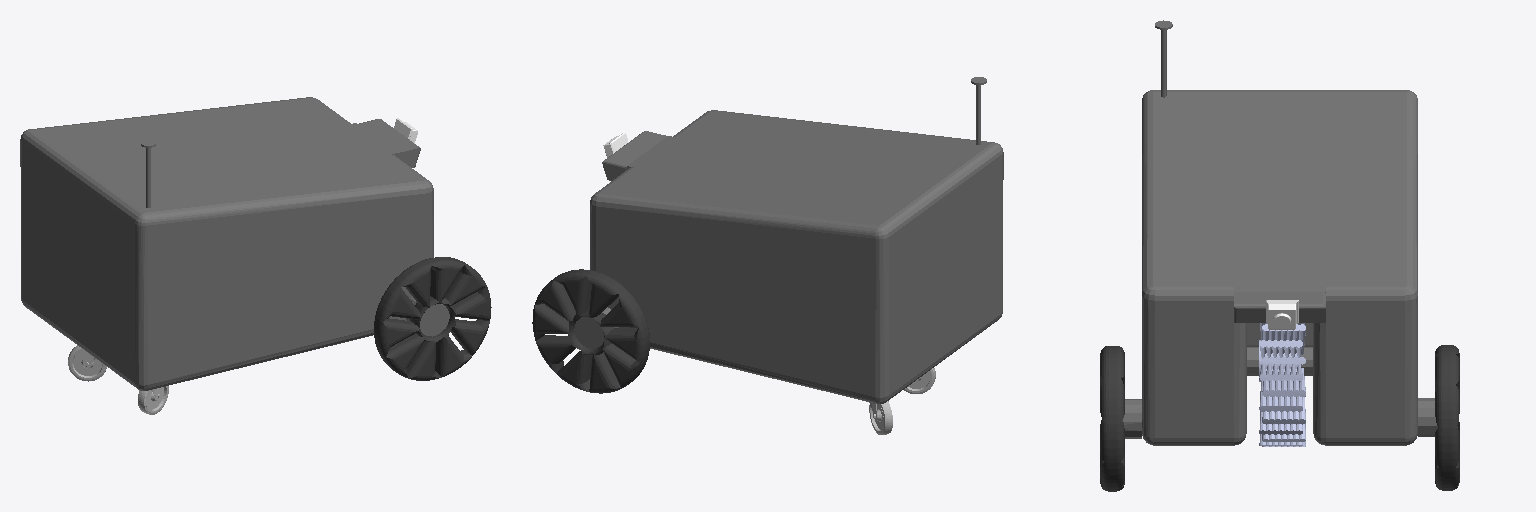
robot.urdf — diseno_final_robot:
<?xml version="1.0" encoding="utf-8"?>
<robot name="diseno_final_robot">
  <link name="base_link">
    <inertial>
      <origin
        xyz="-0.109137752535927 0.0419806407410149 -0.0760341853308248"
        rpy="0 0 0" />
      <mass
        value="14.5723926451771" />
      <inertia
        ixx="0.124657965775517"
        ixy="0.0059609663898011"
        ixz="-1.79849267536098E-05"
        iyy="0.23187346426943"
        iyz="-1.79358330442558E-05"
        izz="0.189759000135656" />
    </inertial>
    <visual>
      <origin
        xyz="0 0 0"
        rpy="0 0 0" />
      <geometry>
        <mesh
          filename="package://diseno_final_robot/meshes/base_link.STL" />
      </geometry>
      <material
        name="">
        <color
          rgba="0.498039215686275 0.498039215686275 0.498039215686275 1" />
      </material>
    </visual>
    <collision>
      <origin
        xyz="0 0 0"
        rpy="0 0 0" />
      <geometry>
        <mesh
          filename="package://diseno_final_robot/meshes/base_link.STL" />
      </geometry>
    </collision>
  </link>
  <link name="llanta1">
    <inertial>
      <origin
        xyz="-1.3359E-10 0.012744 -1.2645E-10"
        rpy="0 0 0" />
      <mass
        value="0.23577" />
      <inertia
        ixx="0.00029454"
        ixy="-4.6374E-13"
        ixz="-5.3956E-11"
        iyy="0.00057368"
        iyz="-3.9038E-13"
        izz="0.00029454" />
    </inertial>
    <visual>
      <origin
        xyz="0 0 0"
        rpy="0 0 0" />
      <geometry>
        <mesh
          filename="package://diseno_final_robot/meshes/llanta1.STL" />
      </geometry>
      <material
        name="">
        <color
          rgba="0.29804 0.29804 0.29804 1" />
      </material>
    </visual>
    <collision>
      <origin
        xyz="0 0 0"
        rpy="0 0 0" />
      <geometry>
        <mesh
          filename="package://diseno_final_robot/meshes/llanta1.STL" />
      </geometry>
    </collision>
  </link>
  <joint name="llanta.1"
    type="continuous">
    <origin
      xyz="0.058802 -0.062563 -0.029378"
      rpy="0 -0.037671 3.1416" />
    <parent
      link="base_link" />
    <child
      link="llanta1" />
    <axis
      xyz="0 1 0" />
    <limit
      lower="0"
      upper="0"
      effort="0"
      velocity="0" />
  </joint>
  <link name="llanta2">
    <inertial>
      <origin
        xyz="-1.3359E-10 0.012744 -1.2645E-10"
        rpy="0 0 0" />
      <mass
        value="0.23577" />
      <inertia
        ixx="0.00029454"
        ixy="-4.6374E-13"
        ixz="-5.3956E-11"
        iyy="0.00057368"
        iyz="-3.9038E-13"
        izz="0.00029454" />
    </inertial>
    <visual>
      <origin
        xyz="0 0 0"
        rpy="0 0 0" />
      <geometry>
        <mesh
          filename="package://diseno_final_robot/meshes/llanta2.STL" />
      </geometry>
      <material
        name="">
        <color
          rgba="0.29804 0.29804 0.29804 1" />
      </material>
    </visual>
    <collision>
      <origin
        xyz="0 0 0"
        rpy="0 0 0" />
      <geometry>
        <mesh
          filename="package://diseno_final_robot/meshes/llanta2.STL" />
      </geometry>
    </collision>
  </link>
  <joint name="llanta.2"
    type="continuous">
    <origin
      xyz="0.058573 0.21463 -0.028692"
      rpy="-3.1416 -1.1524 3.1416" />
    <parent
      link="base_link" />
    <child
      link="llanta2" />
    <axis
      xyz="0 1 0" />
    <limit
      lower="0"
      upper="0"
      effort="0"
      velocity="0" />
  </joint>
  <link name="cepillo">
    <inertial>
      <origin
        xyz="0.021722 -6.7968E-08 8.588E-08"
        rpy="0 0 0" />
      <mass
        value="0.28891" />
      <inertia
        ixx="0.00089633"
        ixy="1.5922E-10"
        ixz="1.6885E-10"
        iyy="0.00048375"
        iyz="2.7106E-10"
        izz="0.00048375" />
    </inertial>
    <visual>
      <origin
        xyz="0 0 0"
        rpy="0 0 0" />
      <geometry>
        <mesh
          filename="package://diseno_final_robot/meshes/cepillo.STL" />
      </geometry>
      <material
        name="">
        <color
          rgba="0.79216 0.81961 0.93333 1" />
      </material>
    </visual>
    <collision>
      <origin
        xyz="0 0 0"
        rpy="0 0 0" />
      <geometry>
        <mesh
          filename="package://diseno_final_robot/meshes/cepillo.STL" />
      </geometry>
    </collision>
  </link>  <joint name="cepillo.1"
    type="continuous">
    <origin
      xyz="-0.020064 0.056633 -0.0088271"
      rpy="2.209 0 1.5708" />
    <parent
      link="base_link" />
    <child
      link="cepillo" />
    <axis
      xyz="1 0 0" />
    <limit
      lower="0"
      upper="0"
      effort="0"
      velocity="0" />
  </joint>
  <link name="llanta_caster1">
    <inertial>
      <origin
        xyz="-0.010664 -0.020985 9.7145E-17"
        rpy="0 0 0" />
      <mass
        value="0.008626" />
      <inertia
        ixx="1.0412E-06"
        ixy="-1.1167E-22"
        ixz="7.9409E-23"
        iyy="1.0412E-06"
        iyz="1.3938E-22"
        izz="1.9805E-06" />
    </inertial>
    <visual>
      <origin
        xyz="0 0 0"
        rpy="0 0 0" />
      <geometry>
        <mesh
          filename="package://diseno_final_robot/meshes/llanta_caster1.STL" />
      </geometry>
      <material
        name="">
        <color
          rgba="0.75294 0.75294 0.75294 1" />
      </material>
    </visual>
    <collision>
      <origin
        xyz="0 0 0"
        rpy="0 0 0" />
      <geometry>
        <mesh
          filename="package://diseno_final_robot/meshes/llanta_caster1.STL" />
      </geometry>
    </collision>
  </link>
  <joint name="llanta_caster.1" 
      type="fixed">
   		<parent link="base_caster1"/>
   		<child link="llanta_caster1"/>
   		<origin xyz="0 -0.018 0" rpy="0 0 0" />
   		<axis xyz="0 0 0" />
 	</joint>
  <link name="llanta_caster2">
    <inertial>
      <origin
        xyz="-0.0106648419028103 -0.0209609354184714 -1.66533453693773E-16"
        rpy="0 0 0" />
      <mass
        value="0.00862604840260992" />
      <inertia
        ixx="1.04119936971148E-06"
        ixy="3.97046694025453E-23"
        ixz="-2.11758236813575E-22"
        iyy="1.04119936971147E-06"
        iyz="-1.33589668927314E-21"
        izz="1.98048265250342E-06" />
    </inertial>
    <visual>
      <origin
        xyz="0 0 0"
        rpy="0 0 0" />
      <geometry>
        <mesh
          filename="package://diseno_final_robot/meshes/llanta_caster2.STL" />
      </geometry>
      <material
        name="">
        <color
          rgba="0.752941176470588 0.752941176470588 0.752941176470588 1" />
      </material>
    </visual>
    <collision>
      <origin
        xyz="0 0 0"
        rpy="0 0 0" />
      <geometry>
        <mesh
          filename="package://diseno_final_robot/meshes/llanta_caster2.STL" />
      </geometry>
    </collision>
  </link>
  <joint name="llanta_caster.2" 
      type="fixed">
   		<parent link="base_caster2"/>
   		<child link="llanta_caster2"/>
   		<origin xyz="0 -0.018 0" rpy="0 0 0" />
   		<axis xyz="0 0 0" />
 	</joint>
  <link name="base_caster2">
    <inertial>
      <origin
        xyz="-0.00261183863321096 -0.0179384254131546 7.65960662674203E-08"
        rpy="0 0 0" />
      <mass
        value="0.00214896191834065" />
      <inertia
        ixx="2.35965069348382E-07"
        ixy="-6.7940503373618E-08"
        ixz="-1.55884423959175E-13"
        iyy="1.32786093030239E-07"
        iyz="1.51631985361064E-12"
        izz="2.49214455592119E-07" />
    </inertial>
    <visual>
      <origin
        xyz="0 0 0"
        rpy="0 0 0" />
      <geometry>
        <mesh
          filename="package://diseno_final_robot/meshes/base_caster2.STL" />
      </geometry>
      <material
        name="">
        <color
          rgba="0.752941176470588 0.752941176470588 0.752941176470588 1" />
      </material>
    </visual>
    <collision>
      <origin
        xyz="0 0 0"
        rpy="0 0 0" />
      <geometry>
        <mesh
          filename="package://diseno_final_robot/meshes/base_caster2.STL" />
      </geometry>
    </collision>
  </link>
  <joint name="base_caster.2"
    type="continuous">
    <origin
      xyz="-0.21763 0.12551 -0.05594"
      rpy="1.5712 -0.00060505 -0.6193" />
    <parent
      link="base_link" />
    <child
      link="base_caster2" />
    <axis
      xyz="0 1 0" />
    <limit
      lower="0"
      upper="0"
      effort="0"
      velocity="0" />
  </joint>
  <link name="base_caster1">
    <inertial>
      <origin
        xyz="-0.0026118 -0.017938 7.0478E-08"
        rpy="0 0 0" />
      <mass
        value="0.002149" />
      <inertia
        ixx="2.3597E-07"
        ixy="-6.7941E-08"
        ixz="-2.3969E-13"
        iyy="1.3279E-07"
        iyz="1.289E-12"
        izz="2.4921E-07" />
    </inertial>
    <visual>
      <origin
        xyz="0 0 0"
        rpy="0 0 0" />
      <geometry>
        <mesh
          filename="package://diseno_final_robot/meshes/base_caster1.STL" />
      </geometry>
      <material
        name="">
        <color
          rgba="0.75294 0.75294 0.75294 1" />
      </material>
    </visual>
    <collision>
      <origin
        xyz="0 0 0"
        rpy="0 0 0" />
      <geometry>
        <mesh
          filename="package://diseno_final_robot/meshes/base_caster1.STL" />
      </geometry>
    </collision>
  </link>
  <joint name="base_caster.1"
    type="continuous">
    <origin
      xyz="-0.21825 0.026283 -0.05594"
      rpy="1.5711 0.00069423 -2.7771" />
    <parent
      link="base_link" />
    <child
      link="base_caster1" />
    <axis
      xyz="0 1 0" />
    <limit
      lower="0"
      upper="0"
      effort="0"
      velocity="0" />
  </joint>
  <link name="camara">
    <inertial>
      <origin
        xyz="0 0 0"
        rpy="0 0 0" />
      <mass
        value="0" />
      <inertia
        ixx="0"
        ixy="0"
        ixz="0"
        iyy="0"
        iyz="0"
        izz="0" />
    </inertial>
    <visual>
      <origin
        xyz="0 0 0"
        rpy="0 0 0" />
      <geometry>
        <mesh
          filename="package://diseno_final_robot/meshes/camara.STL" />
      </geometry>
      <material
        name="">
        <color
          rgba="1 1 1 1" />
      </material>
    </visual>
    <collision>
      <origin
        xyz="0 0 0"
        rpy="0 0 0" />
      <geometry>
        <mesh
          filename="package://diseno_final_robot/meshes/camara.STL" />
      </geometry>
    </collision>
  </link>
  <joint name="camara.1"
    type="fixed">
    <origin
      xyz="0.11119 0.077959 0.10052"
      rpy="-1.5708 1.2303 -3.1416" />
    <parent
      link="base_link" />
    <child
      link="camara" />
    <axis
      xyz="0 0 0" />
  </joint>
</robot>

--- Render facts (derived) ---
The picture shows the robot from 3 angles, left to right: view 1: azimuth 30°, elevation 25°; view 2: azimuth 150°, elevation 25°; view 3: azimuth 270°, elevation 25°; orthographic projection.
Model diseno_final_robot with 9 links and 8 joints (5 continuous, 3 fixed), rooted at base_link, posed every joint at zero.
Links seen in each view (by area): view 1: base_link, llanta1, llanta_caster2, llanta_caster1; view 2: base_link, llanta2, llanta_caster2; view 3: base_link, cepillo, llanta1, llanta2, camara.
Link boxes in pixels (x1=…): base_link: x1=20, y1=97, x2=449, y2=390; llanta1: x1=374, y1=257, x2=491, y2=380; llanta_caster2: x1=68, y1=345, x2=106, y2=381; llanta_caster1: x1=138, y1=386, x2=168, y2=414; base_link: x1=574, y1=77, x2=1003, y2=403; llanta2: x1=532, y1=269, x2=649, y2=393; llanta_caster2: x1=869, y1=401, x2=892, y2=434; base_link: x1=1123, y1=20, x2=1437, y2=445; cepillo: x1=1259, y1=323, x2=1305, y2=446; llanta1: x1=1100, y1=346, x2=1124, y2=491; llanta2: x1=1435, y1=345, x2=1459, y2=490; camara: x1=1266, y1=300, x2=1298, y2=329.
Bounding box of the posed robot: 0.3947 × 0.3246 × 0.3362 m (x, y, z).
9 mesh visuals loaded from 9 distinct referenced files (9 binary STL).